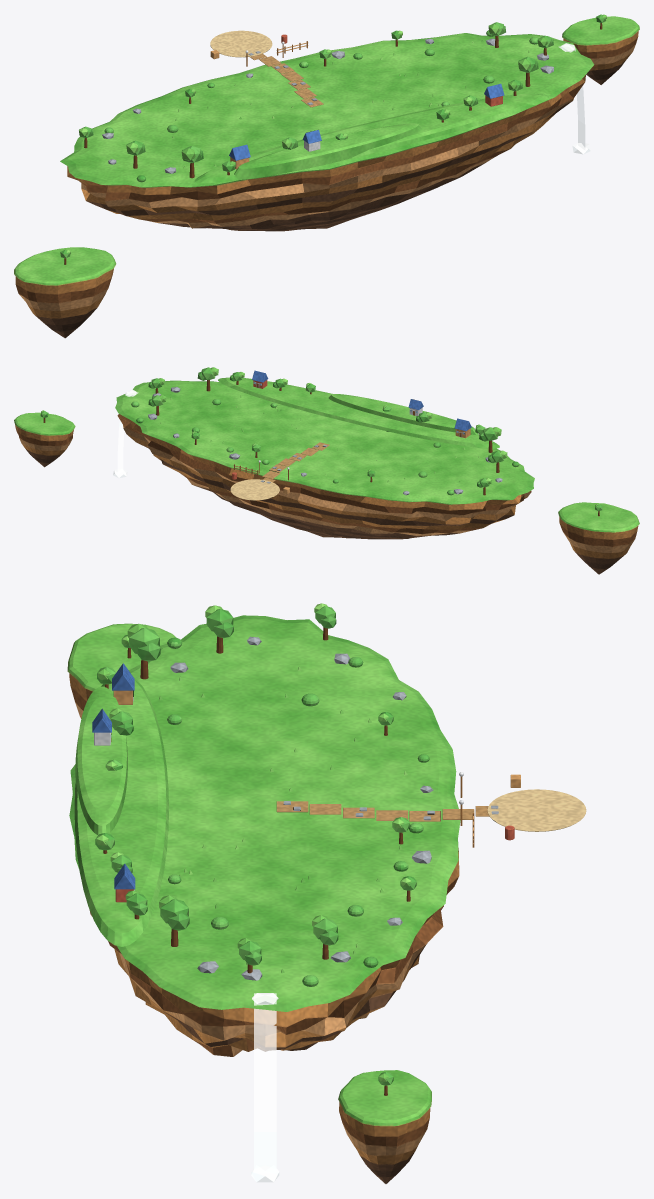
Rendered from Island_Sunnyville.glb.
The picture shows the model from 3 angles, top to bottom: view 1: azimuth 30°, elevation 25°; view 2: azimuth 150°, elevation 25°; view 3: azimuth 270°, elevation 25°; orthographic projection. The views are drawn at different scales.
Parts seen in each view (by area): view 1: Island_Sunnyville_Mesh, Island_Sunnyville, VFX_Waterfall_Placeholder; view 2: Island_Sunnyville_Mesh, Island_Sunnyville, VFX_Waterfall_Placeholder; view 3: Island_Sunnyville_Mesh, Island_Sunnyville, VFX_Waterfall_Placeholder.
Boxes of the visible parts, bbox=[...] form: Island_Sunnyville_Mesh: bbox=[60, 22, 594, 231]; Island_Sunnyville: bbox=[14, 14, 639, 338]; VFX_Waterfall_Placeholder: bbox=[558, 43, 590, 154]; Island_Sunnyville_Mesh: bbox=[115, 367, 534, 539]; Island_Sunnyville: bbox=[14, 410, 639, 574]; VFX_Waterfall_Placeholder: bbox=[113, 389, 138, 477]; Island_Sunnyville_Mesh: bbox=[69, 603, 586, 1056]; Island_Sunnyville: bbox=[67, 623, 431, 1183]; VFX_Waterfall_Placeholder: bbox=[251, 993, 279, 1182].
Size of what is drawn, in the model's own units: 85.04 by 18.28 by 34.37.
2 materials, 1 textured.
